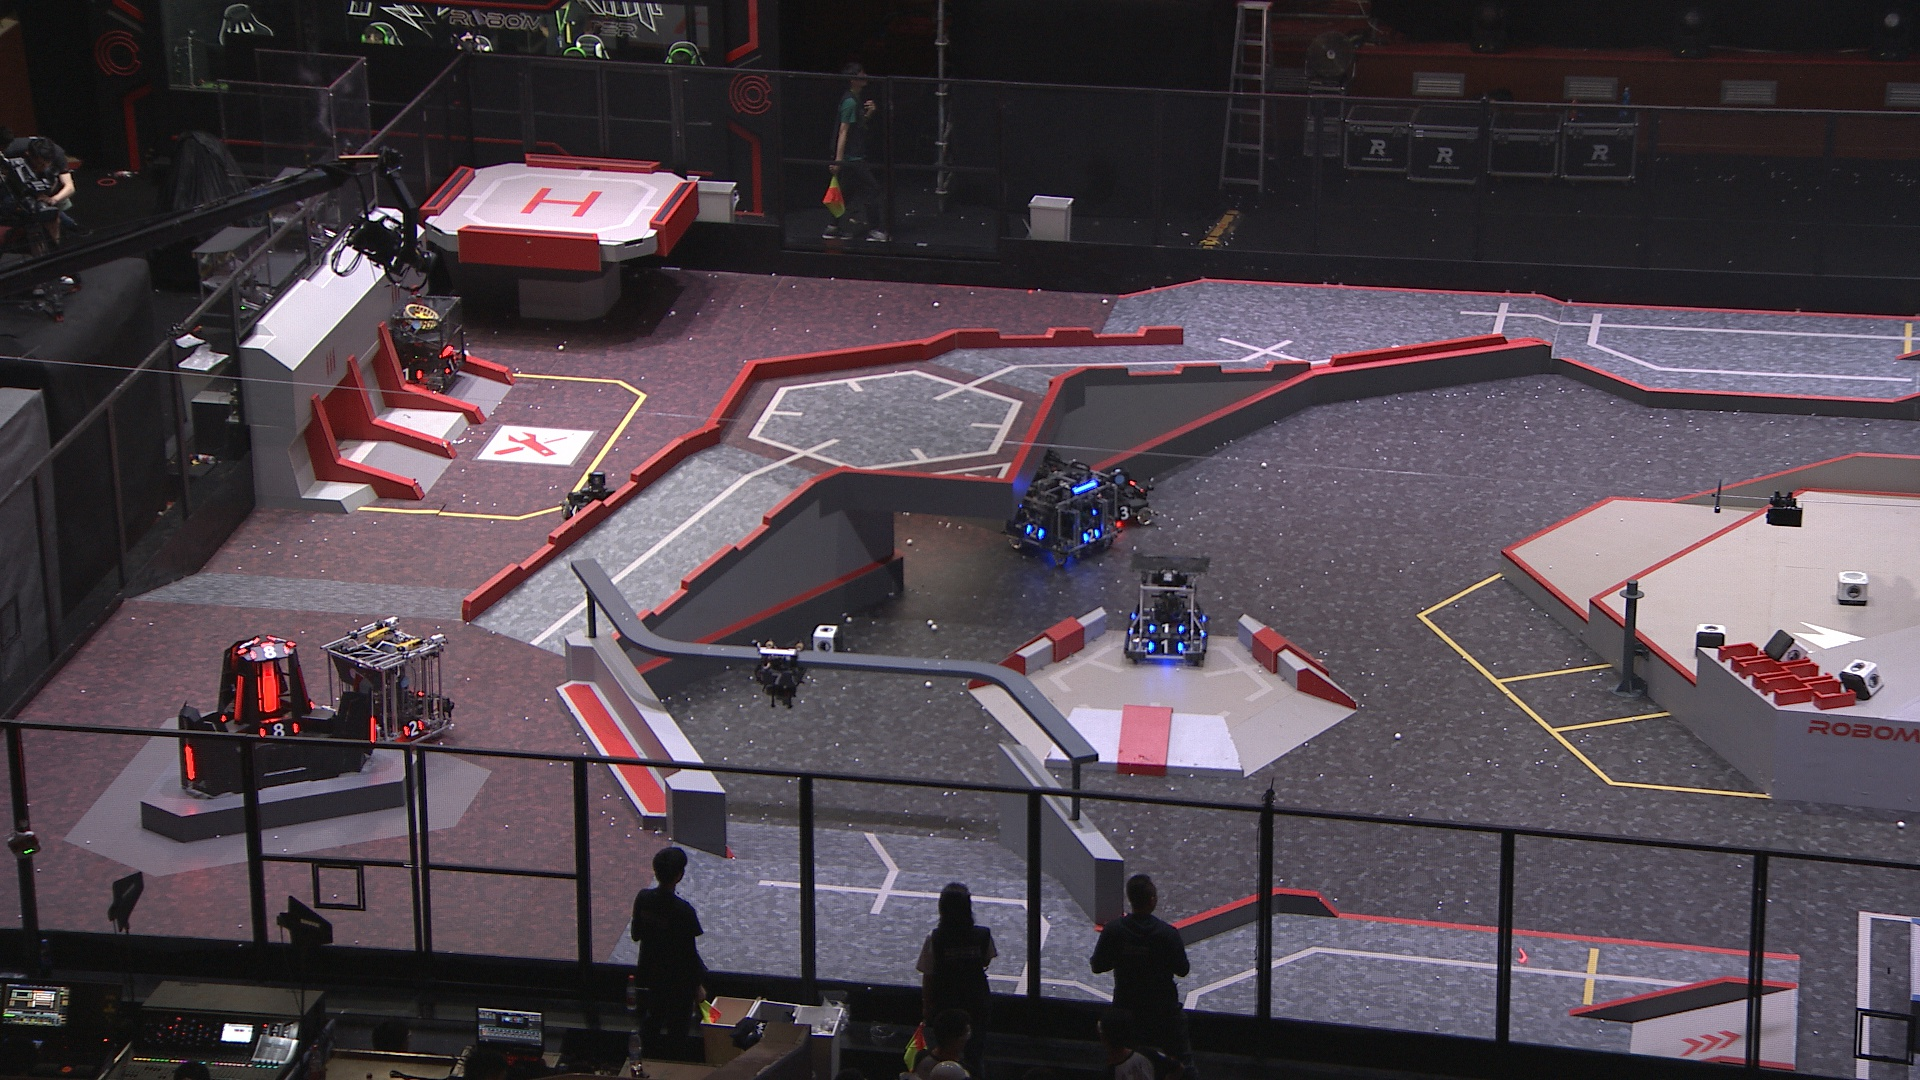armor: (258, 676, 281, 717), (249, 644, 291, 661), (1149, 641, 1187, 659), (258, 721, 301, 737), (761, 671, 798, 688), (1149, 621, 1187, 637), (182, 742, 196, 782), (233, 673, 244, 721), (1025, 522, 1048, 542), (235, 637, 261, 654), (400, 367, 425, 384), (404, 719, 425, 738), (1083, 527, 1102, 546), (1114, 505, 1135, 522), (367, 717, 378, 744), (444, 356, 458, 373)
base: (173, 636, 378, 802)
car: (320, 611, 456, 756), (996, 444, 1125, 566), (1121, 555, 1215, 669), (385, 284, 473, 400), (560, 469, 637, 547), (1088, 462, 1162, 531)
watcher: (752, 637, 811, 705)
